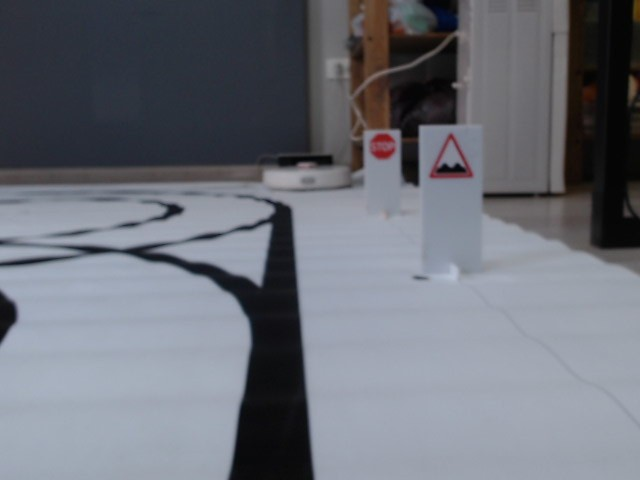Nerov: (429, 131, 474, 182)
Stop: (367, 133, 395, 160)
